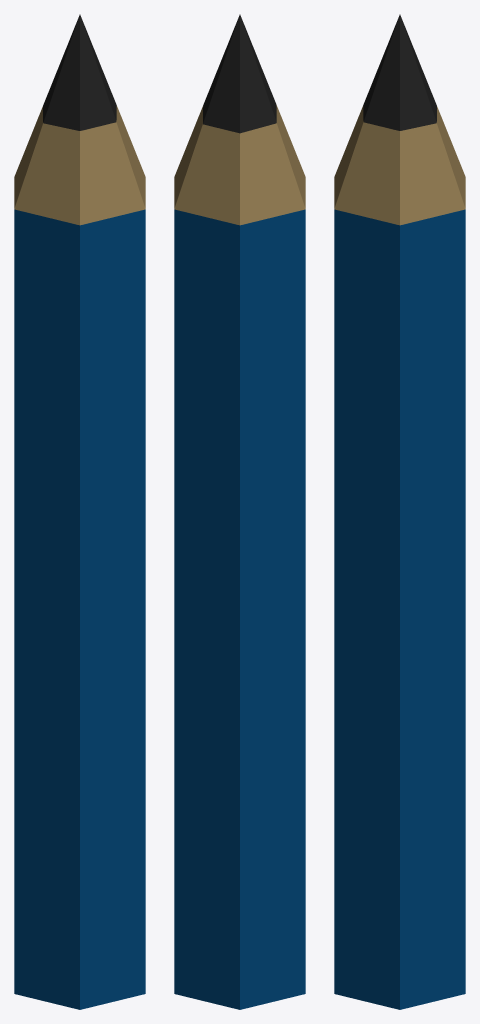
File: pencil.fbx
3 views of the same model, side by side, from view 1: azimuth 30°, elevation 25°; view 2: azimuth 150°, elevation 25°; view 3: azimuth 330°, elevation 25° (orthographic).
Visible parts, largest first — view 1: pCylinder1; view 2: pCylinder1; view 3: pCylinder1.
Boxes of the visible parts, box(x1,y1,x2,y2) form: pCylinder1: box(14, 14, 145, 1009); pCylinder1: box(174, 14, 305, 1009); pCylinder1: box(334, 14, 465, 1009).
Size of the model in its own units: 0.1241 by 0.8683 by 0.1074.
